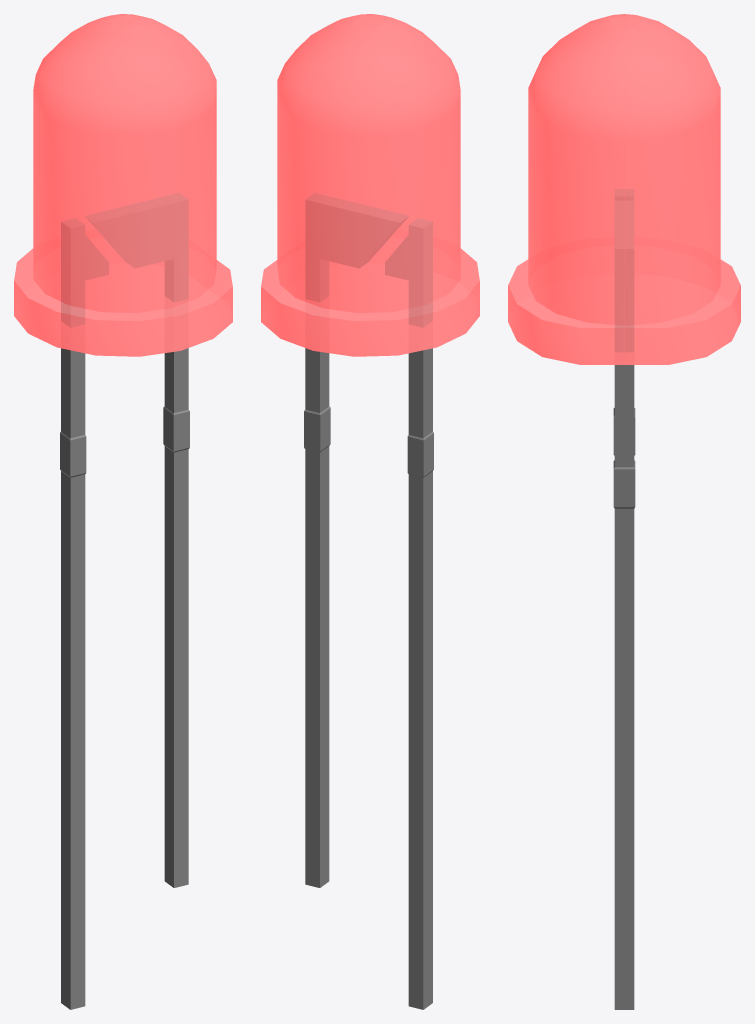
The model's file is led.glb.
3 views of the same model, side by side, from view 1: azimuth 30°, elevation 25°; view 2: azimuth 150°, elevation 25°; view 3: azimuth 270°, elevation 25° (orthographic). The views are drawn at different scales.
Parts seen in each view (by area): view 1: Cylinder; view 2: Cylinder; view 3: Cylinder.
Boxes of the visible parts, left/top/right/bottom form: Cylinder: left=14, top=14, right=232, bottom=1009; Cylinder: left=261, top=14, right=479, bottom=1009; Cylinder: left=508, top=14, right=740, bottom=1009.
Size of the model in its own units: 2.26 by 11.59 by 2.42.
